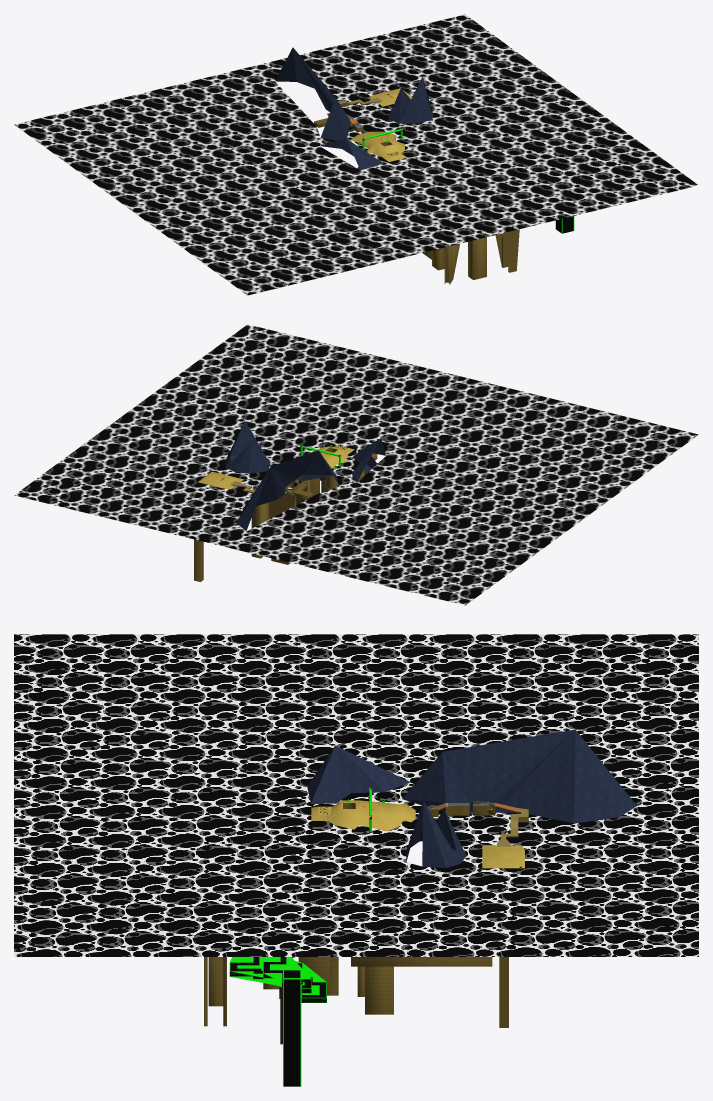
3 views of the same model, one above another, from view 1: azimuth 30°, elevation 25°; view 2: azimuth 150°, elevation 25°; view 3: azimuth 270°, elevation 25° (orthographic). The views are drawn at different scales.
Visible parts, largest first — view 1: g.002, f.002, 4.005, 2.005; view 2: g.002, f.002, 4.005, 2.005; view 3: g.002, f.002, 4.005, 2.005, c.002, j.002.
Boxes of the visible parts, bbox=[...] form: g.002: bbox=[14, 14, 698, 295]; f.002: bbox=[275, 47, 432, 170]; 4.005: bbox=[314, 94, 519, 284]; 2.005: bbox=[351, 88, 412, 161]; g.002: bbox=[14, 324, 698, 605]; f.002: bbox=[224, 420, 385, 531]; 4.005: bbox=[194, 446, 377, 581]; 2.005: bbox=[197, 445, 354, 489]; g.002: bbox=[14, 634, 698, 956]; f.002: bbox=[307, 729, 636, 867]; 4.005: bbox=[204, 802, 528, 1027]; 2.005: bbox=[311, 800, 524, 868]; c.002: bbox=[230, 800, 384, 1086]; j.002: bbox=[229, 789, 384, 1086].
Bounding box in the file's own units: 458753 × 150670 × 411263.
Materials: 21 (21 with a texture image).
